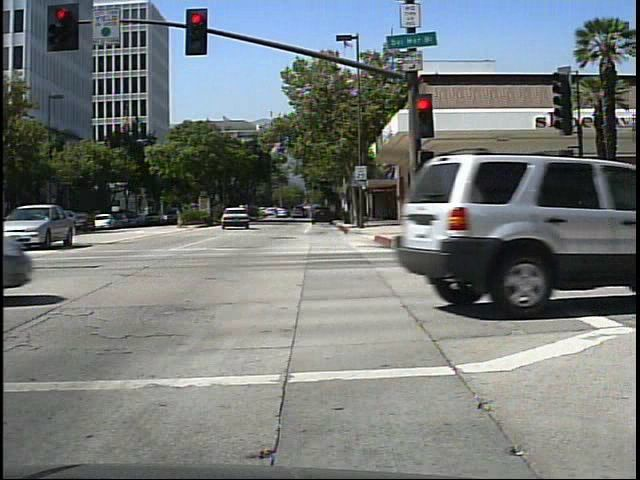person: (271, 205, 284, 223)
